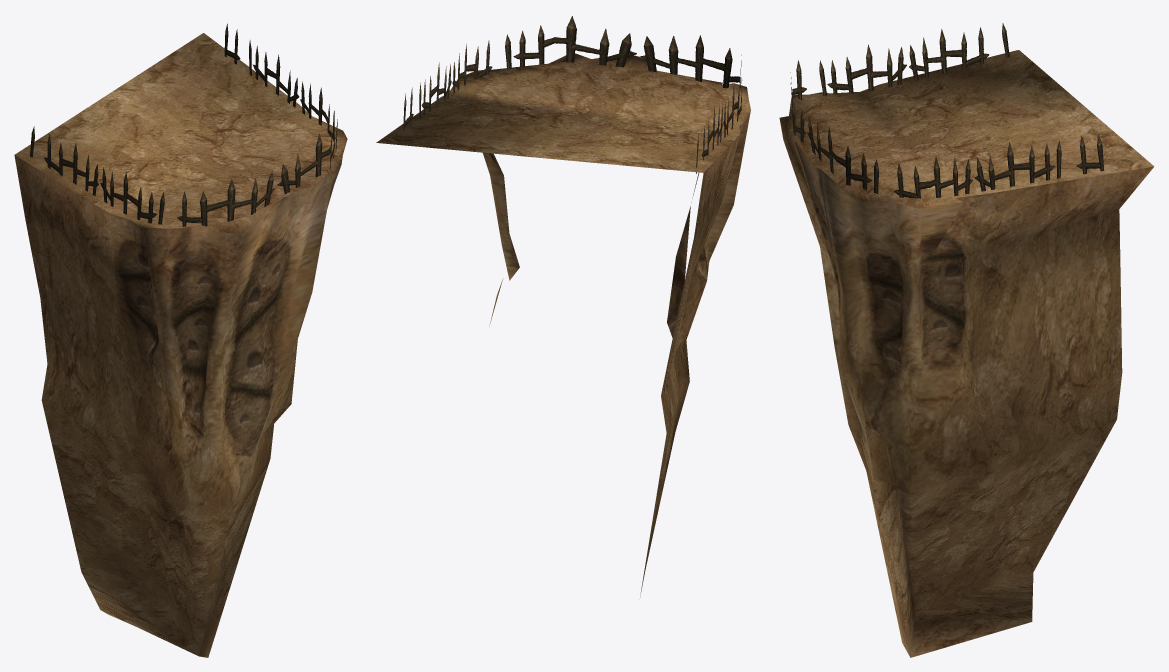
The model's file is w_cd_ravi_house_03.glb.
3 views of the same model, side by side, from view 1: azimuth 30°, elevation 25°; view 2: azimuth 150°, elevation 25°; view 3: azimuth 270°, elevation 25° (orthographic). The views are drawn at different scales.
Parts seen in each view (by area): view 1: W_CD_ravi_house_19, W_CD_ravi_house_18; view 2: W_CD_ravi_house_19, W_CD_ravi_house_18; view 3: W_CD_ravi_house_19, W_CD_ravi_house_18.
Boxes of the visible parts, x1=… form: W_CD_ravi_house_19: x1=14, y1=33, x2=347, y2=657; W_CD_ravi_house_18: x1=30, y1=23, x2=337, y2=226; W_CD_ravi_house_19: x1=376, y1=53, x2=750, y2=597; W_CD_ravi_house_18: x1=403, y1=16, x2=742, y2=173; W_CD_ravi_house_19: x1=779, y1=50, x2=1154, y2=657; W_CD_ravi_house_18: x1=790, y1=23, x2=1104, y2=198.
Size of the model in its own units: 25.55 by 47.69 by 27.52.
Materials: 2 (2 with a texture image).
